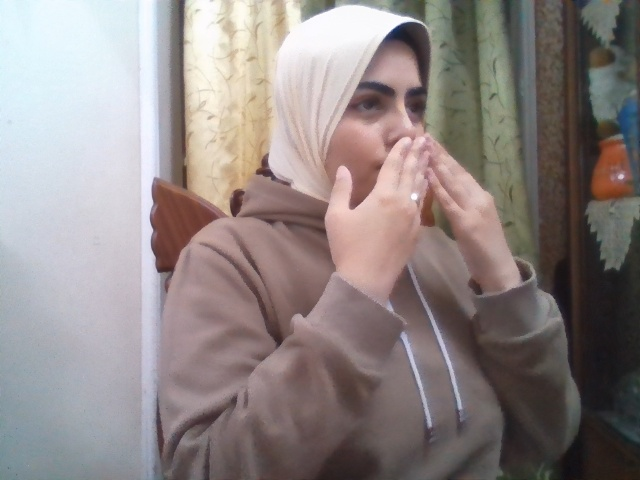thanks: (325, 135, 517, 276)
